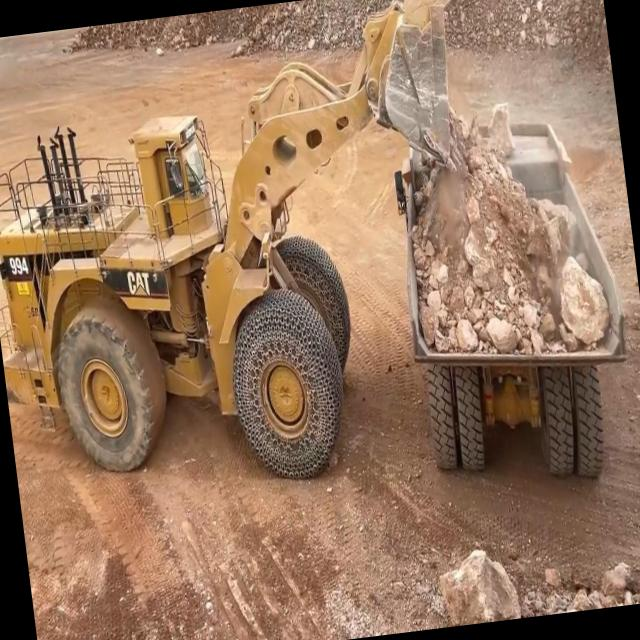Camion volquete: (383, 88, 640, 501)
pala cargadora: (0, 0, 523, 518)
